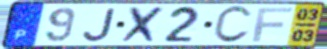2: (161, 4, 204, 46)
9: (43, 7, 78, 44)
C: (211, 5, 255, 45)
F: (250, 6, 295, 43)
J: (81, 7, 118, 43)
X: (119, 6, 169, 45)
